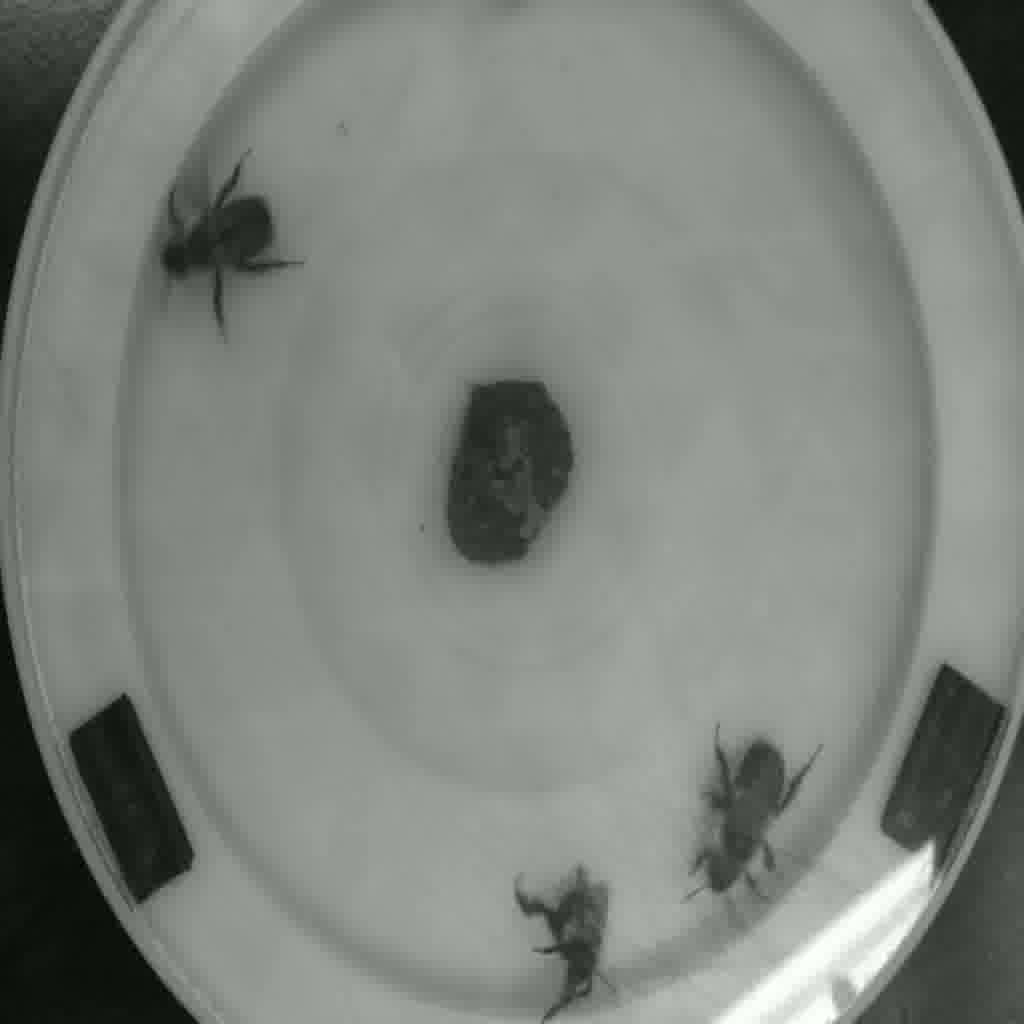bee: (496, 854, 634, 1024), (688, 731, 819, 903), (146, 168, 294, 314)
